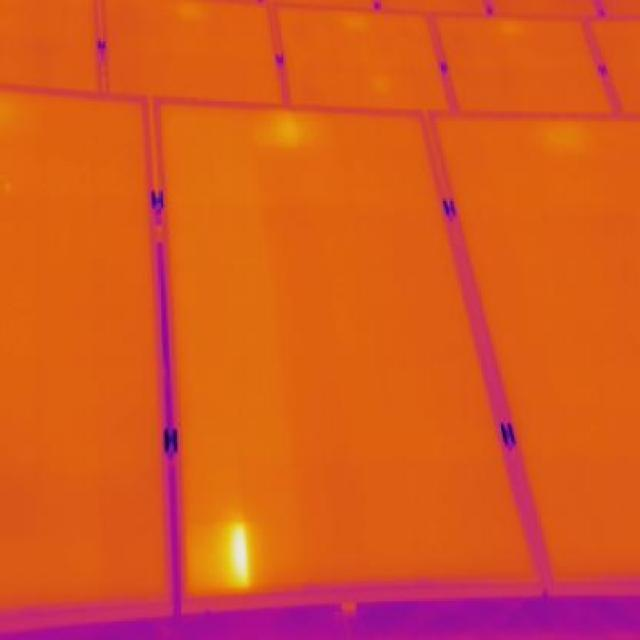hotspot: (186, 519, 254, 596)
